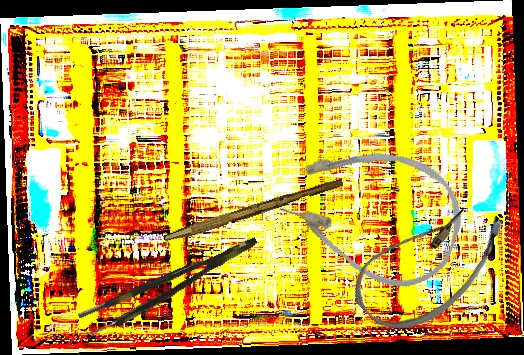Cannula: (268, 122, 477, 302), (341, 174, 519, 352)
Scalpel Handle: (162, 173, 345, 249)
Tissue Forceps: (77, 234, 265, 339)
